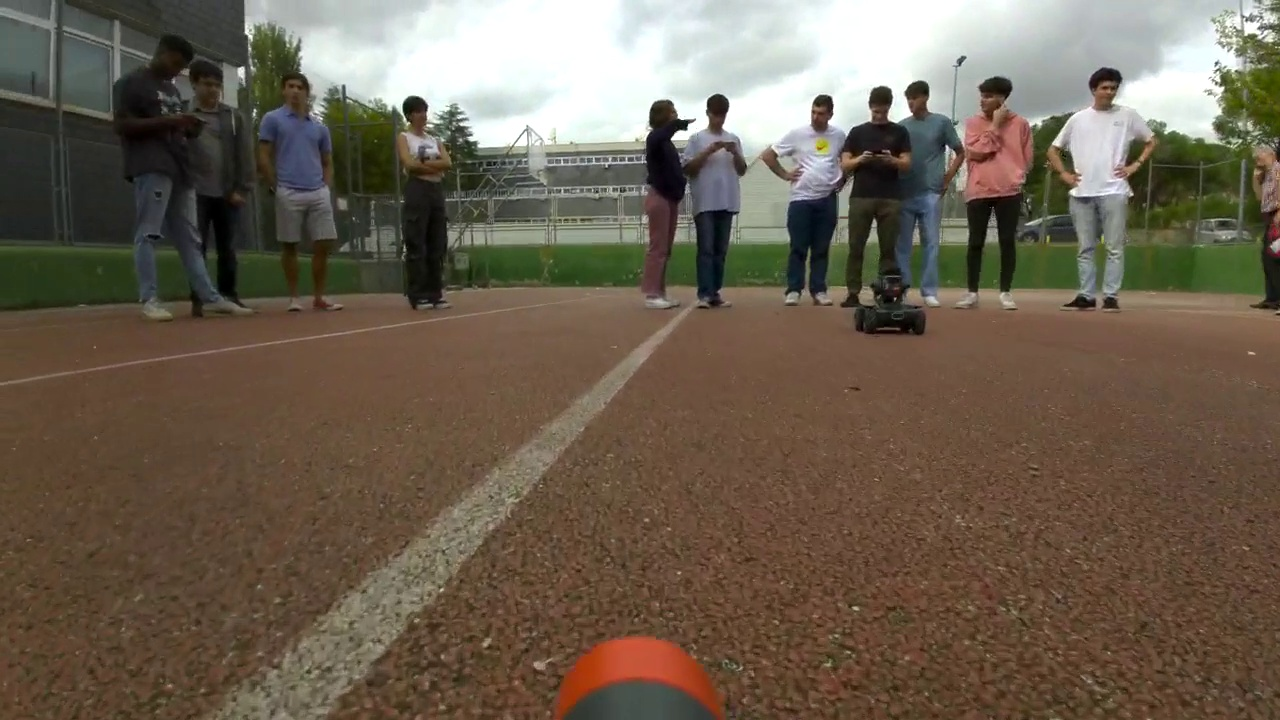robot: (854, 269, 926, 336)
